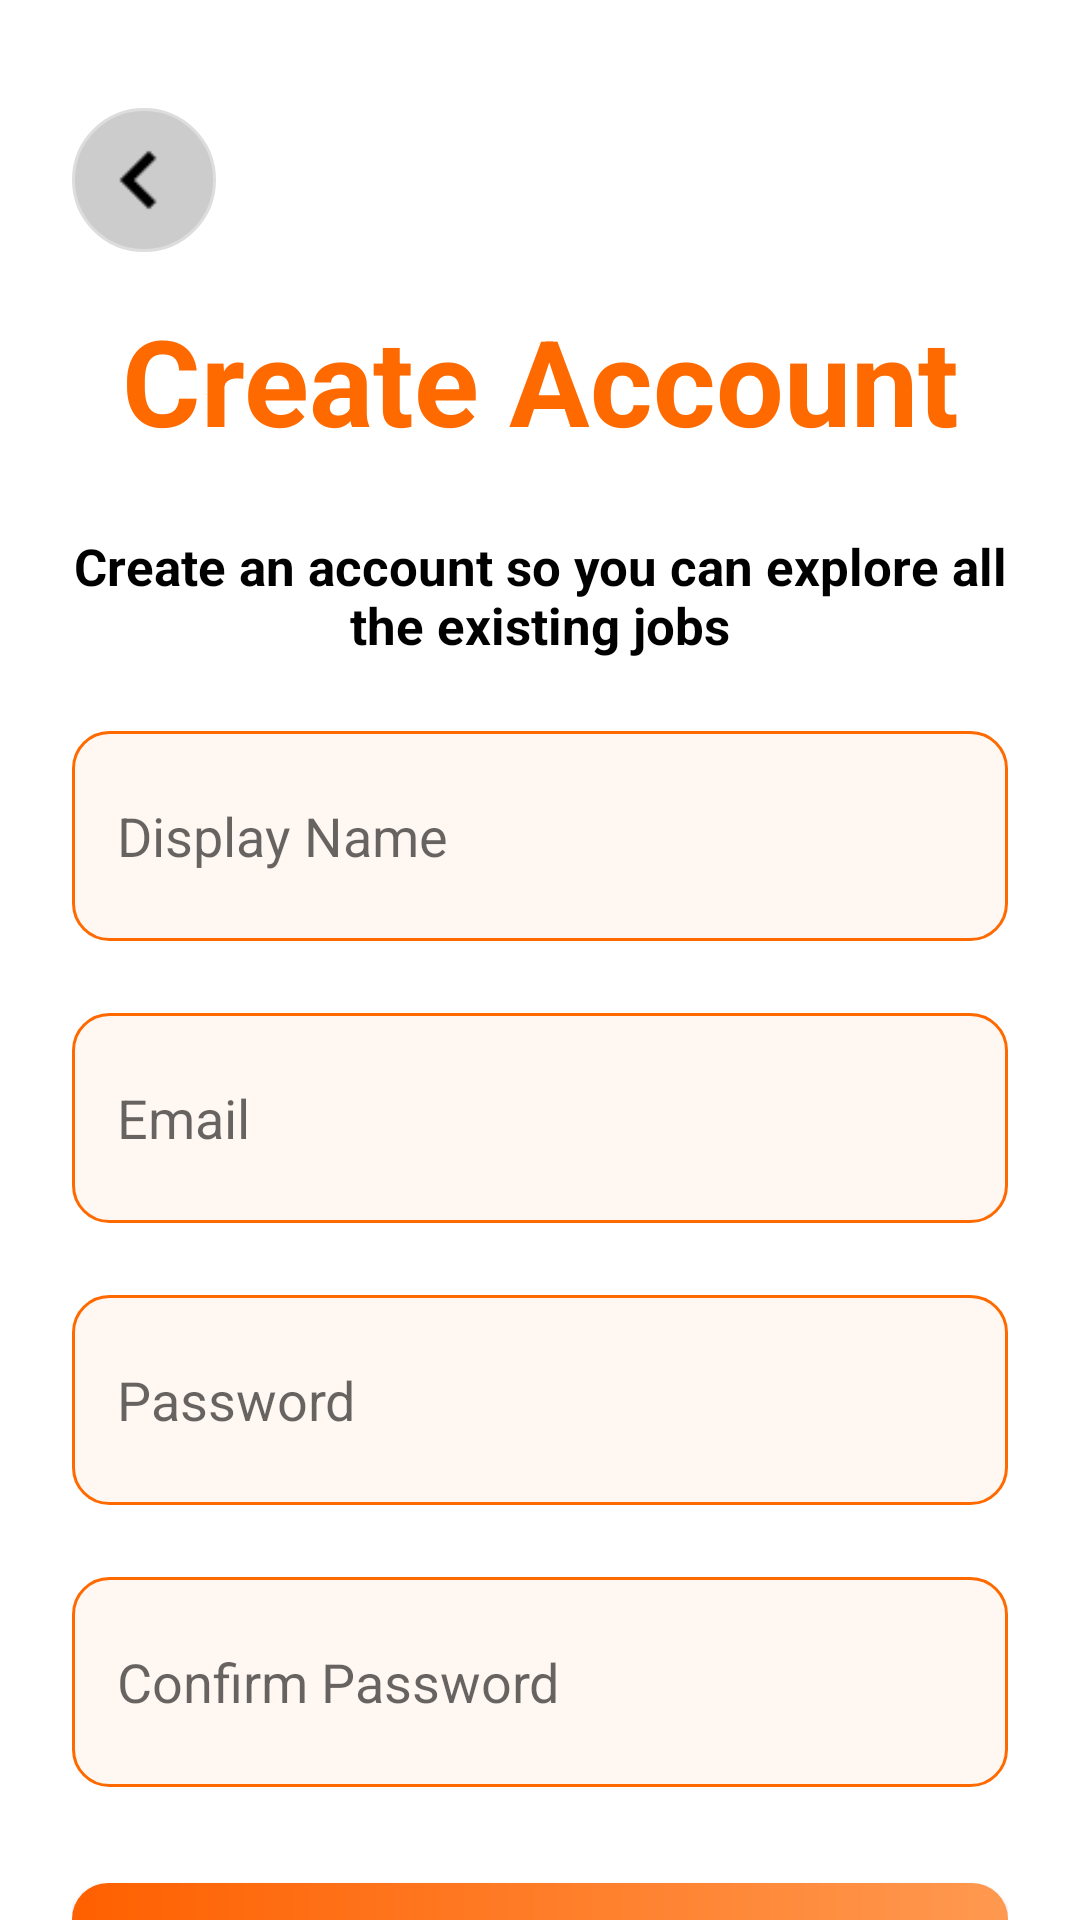

Point at icon controls on the screen. Image size 1080 x 1920, points as (x,y).
whiteback: (144,180)
